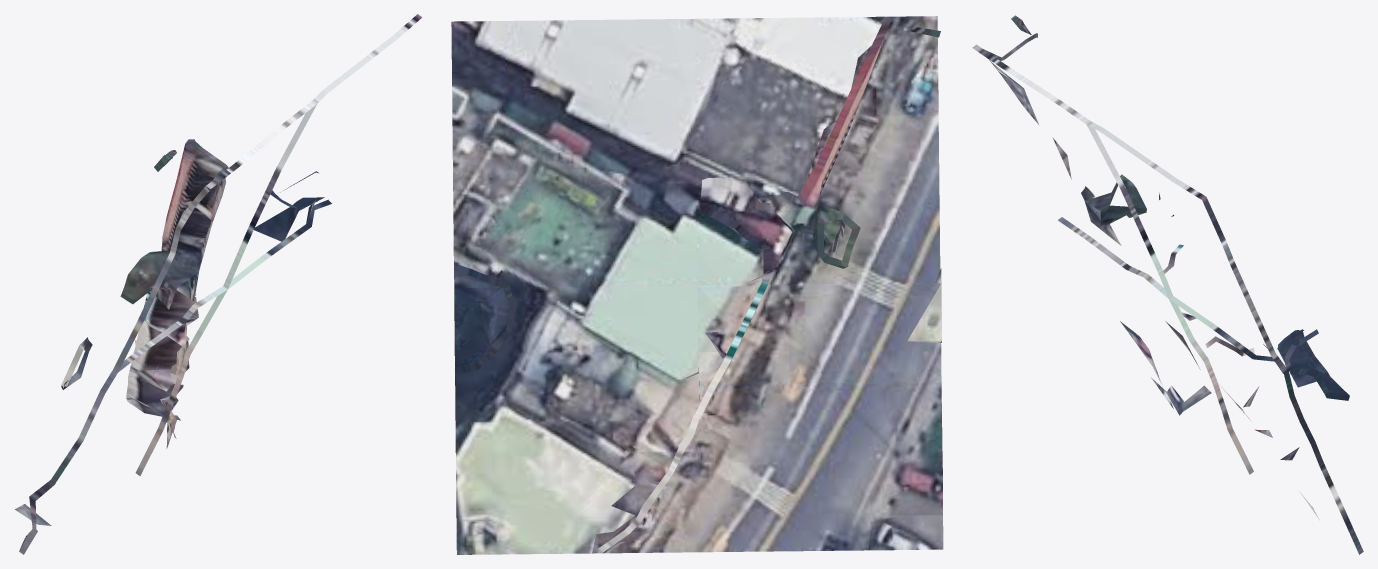
3 renders of one model, left to right at view 1: azimuth 30°, elevation 25°; view 2: azimuth 150°, elevation 25°; view 3: azimuth 270°, elevation 25°, orthographic. The views are drawn at different scales.
Size of the model in its own units: 38.05 by 36.91 by 31.46.
Materials: 1 (1 with a texture image).
